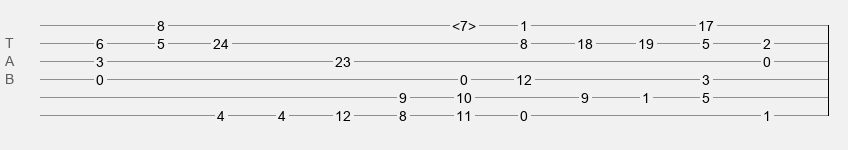0: (96, 72, 104, 82), (460, 72, 468, 82), (520, 108, 528, 118), (763, 54, 771, 64)
1: (520, 18, 528, 28), (642, 90, 650, 100), (763, 108, 771, 118)
10: (456, 90, 472, 100)
11: (456, 108, 472, 118)
12: (335, 108, 351, 118), (516, 72, 532, 82)
17: (698, 18, 714, 28)
18: (577, 36, 593, 46)
19: (638, 36, 654, 46)
2: (763, 36, 771, 46)
23: (335, 54, 351, 64)
24: (213, 36, 229, 46)
3: (96, 54, 104, 64), (702, 72, 710, 82)
4: (217, 108, 225, 118), (278, 108, 286, 118)
5: (157, 36, 165, 46), (702, 90, 710, 100), (702, 36, 710, 46)
6: (96, 36, 104, 46)
8: (157, 18, 165, 28), (399, 108, 407, 118), (520, 36, 528, 46)
9: (399, 90, 407, 100), (581, 90, 589, 100)
harmonic: (452, 18, 476, 28)
